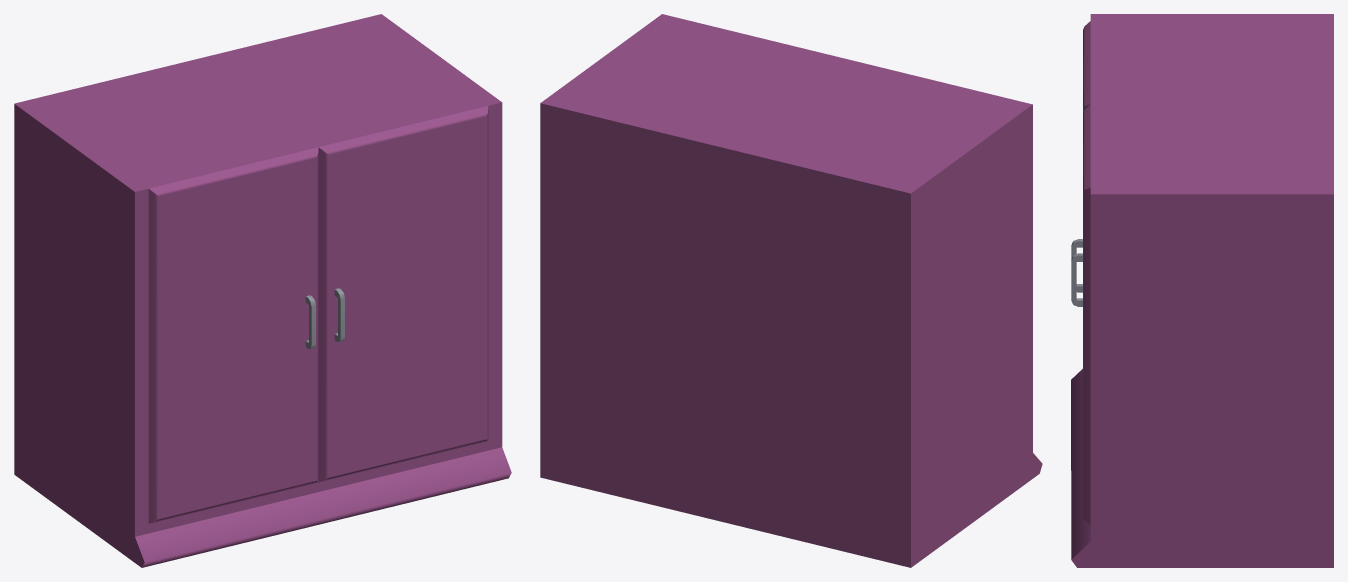
The model's file is Credenza MAcchina Gas.fbx.
3 renders of one model, left to right at view 1: azimuth 30°, elevation 25°; view 2: azimuth 150°, elevation 25°; view 3: azimuth 270°, elevation 25°, orthographic.
Parts seen in each view (by area): view 1: polySurface13; view 2: polySurface13; view 3: polySurface13.
Part boxes in pixels (x1,y1,x2,y2): polySurface13: (14, 14, 511, 567); polySurface13: (540, 14, 1042, 567); polySurface13: (1071, 14, 1333, 567).
Size of the model in its own units: 2 by 1.93 by 1.23.
